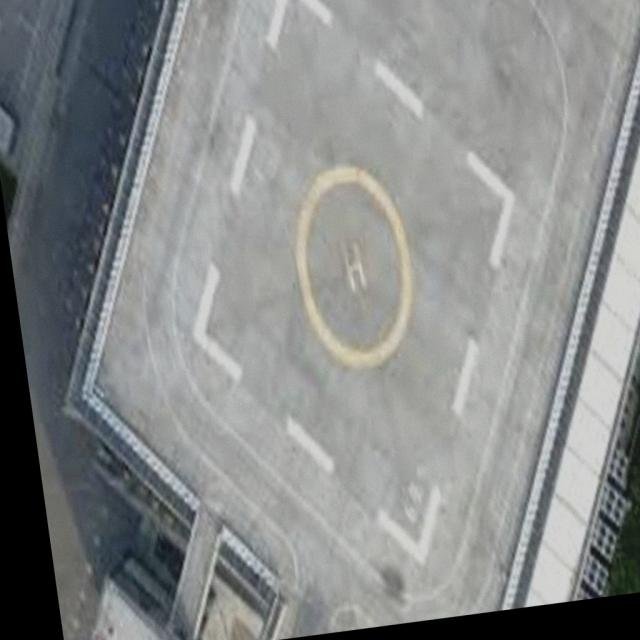helipad: (292, 163, 414, 370)
